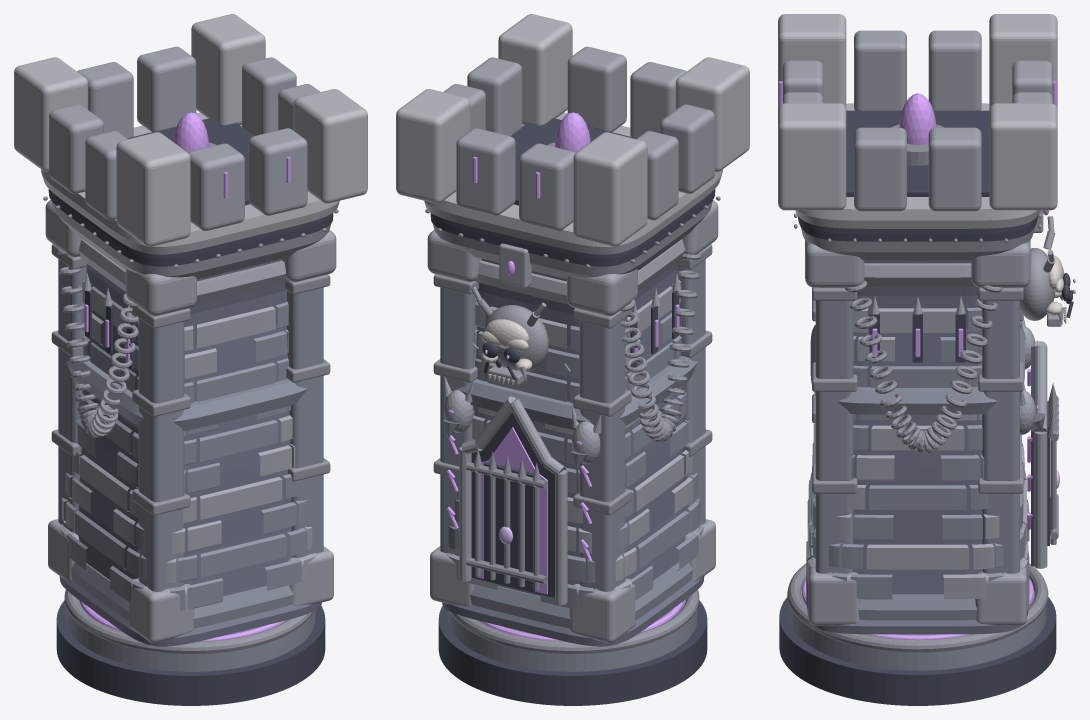
Rendered from tour_citadelle_damnee.fbx.
3 renders of one model, left to right at view 1: azimuth 30°, elevation 25°; view 2: azimuth 150°, elevation 25°; view 3: azimuth 270°, elevation 25°, orthographic. The views are drawn at different scales.
Visible parts, largest first — view 1: Corps_tour_pierre_massive, Socle_obsidienne_bas, Contrefort_principal_-1_1, CRENEAU_GOTHIQUE_01, Contrefort_principal_1_1, CRENEAU_GOTHIQUE_03, CRENEAU_GOTHIQUE_02, CORNICHE_haut, CRENEAU_GOTHIQUE_00, Linteau_renforce, Socle_pierre_polie, CRENEAU_GOTHIQUE_07 (+46 smaller); view 2: Corps_tour_pierre_massive, Socle_obsidienne_bas, Contrefort_principal_-1_-1, CRENEAU_GOTHIQUE_00, CRENEAU_GOTHIQUE_02, CRENEAU_GOTHIQUE_03, CORNICHE_haut, CRENEAU_GOTHIQUE_01, Contrefort_principal_1_-1, Socle_pierre_polie, CRENEAU_GOTHIQUE_06, CRENEAU_GOTHIQUE_07 (+52 smaller); view 3: Corps_tour_pierre_massive, Socle_obsidienne_bas, Contrefort_principal_1_1, Contrefort_principal_1_-1, CRENEAU_GOTHIQUE_02, CRENEAU_GOTHIQUE_03, Socle_pierre_polie, CORNICHE_haut, CRENEAU_GOTHIQUE_09, CRENEAU_GOTHIQUE_11, CRENEAU_GOTHIQUE_00, CRENEAU_GOTHIQUE_01 (+47 smaller).
Boxes of the visible parts, x1,y1,x2,y2 form: Corps_tour_pierre_massive: [59, 259, 321, 646]; Socle_obsidienne_bas: [56, 600, 325, 705]; Contrefort_principal_-1_1: [138, 318, 184, 591]; CRENEAU_GOTHIQUE_01: [116, 132, 190, 246]; Contrefort_principal_1_1: [286, 287, 323, 557]; CRENEAU_GOTHIQUE_03: [293, 89, 367, 203]; CRENEAU_GOTHIQUE_02: [191, 14, 265, 125]; CORNICHE_haut: [41, 112, 339, 254]; CRENEAU_GOTHIQUE_00: [14, 57, 88, 171]; Linteau_renforce: [66, 360, 307, 430]; Socle_pierre_polie: [66, 599, 315, 671]; CRENEAU_GOTHIQUE_07: [248, 128, 307, 215]; Corps_tour_pierre_massive: [442, 259, 704, 646]; Socle_obsidienne_bas: [438, 600, 707, 705]; Contrefort_principal_-1_-1: [579, 318, 625, 591]; CRENEAU_GOTHIQUE_00: [573, 132, 647, 246]; CRENEAU_GOTHIQUE_02: [396, 89, 470, 203]; CRENEAU_GOTHIQUE_03: [498, 14, 572, 125]; CORNICHE_haut: [424, 112, 722, 254]; CRENEAU_GOTHIQUE_01: [675, 57, 749, 171]; Contrefort_principal_1_-1: [440, 287, 477, 556]; Socle_pierre_polie: [448, 599, 697, 671]; CRENEAU_GOTHIQUE_06: [456, 128, 515, 215]; CRENEAU_GOTHIQUE_07: [567, 46, 626, 132]; Corps_tour_pierre_massive: [806, 260, 1029, 634]; Socle_obsidienne_bas: [779, 597, 1056, 705]; Contrefort_principal_1_1: [815, 287, 853, 573]; Contrefort_principal_1_-1: [982, 287, 1019, 573]; CRENEAU_GOTHIQUE_02: [989, 103, 1057, 210]; CRENEAU_GOTHIQUE_03: [778, 103, 846, 210]; Socle_pierre_polie: [789, 589, 1046, 670]; CORNICHE_haut: [795, 103, 1040, 228]; CRENEAU_GOTHIQUE_09: [928, 127, 981, 211]; CRENEAU_GOTHIQUE_11: [854, 127, 906, 211]; CRENEAU_GOTHIQUE_00: [989, 14, 1057, 109]; CRENEAU_GOTHIQUE_01: [778, 14, 846, 109].
Size of the model in its own units: 69 by 159 by 74.15.
